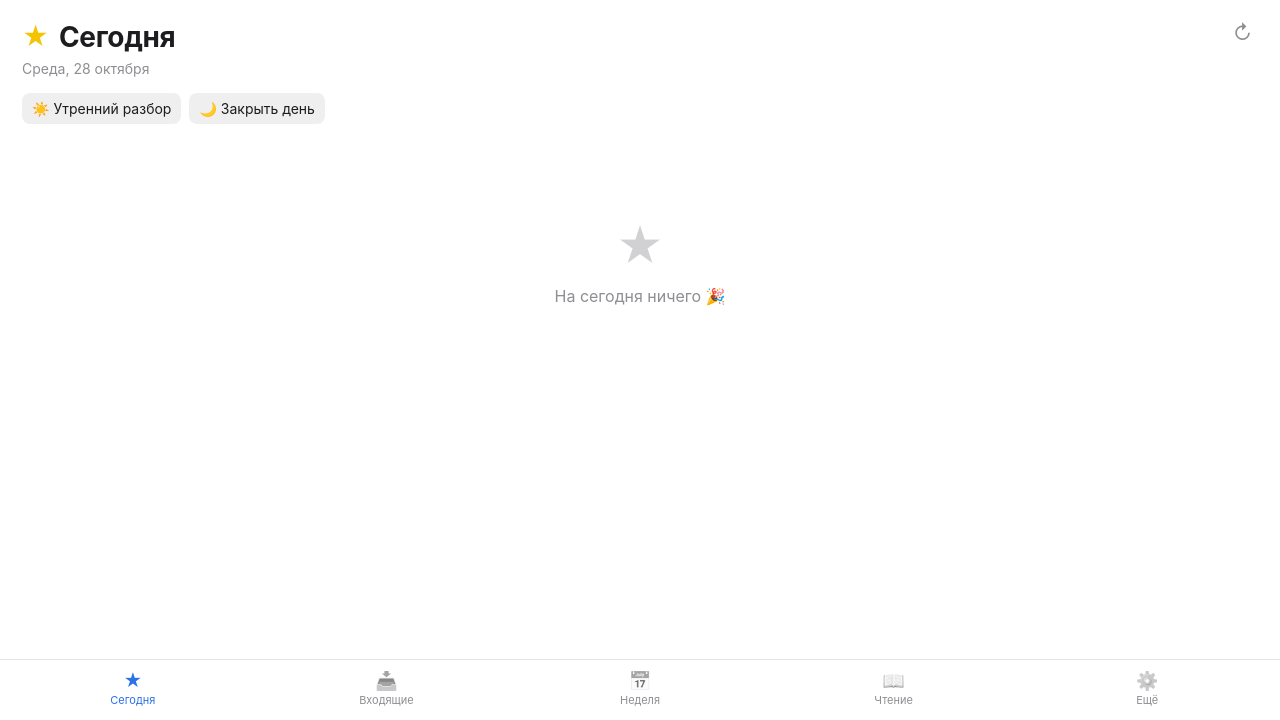
Ещё: статистика и настройки › проектов в мини-аппе нет
Click the tab "⚙️ Ещё" at (1147, 689), box left=1020, top=666, right=1274, bottom=712
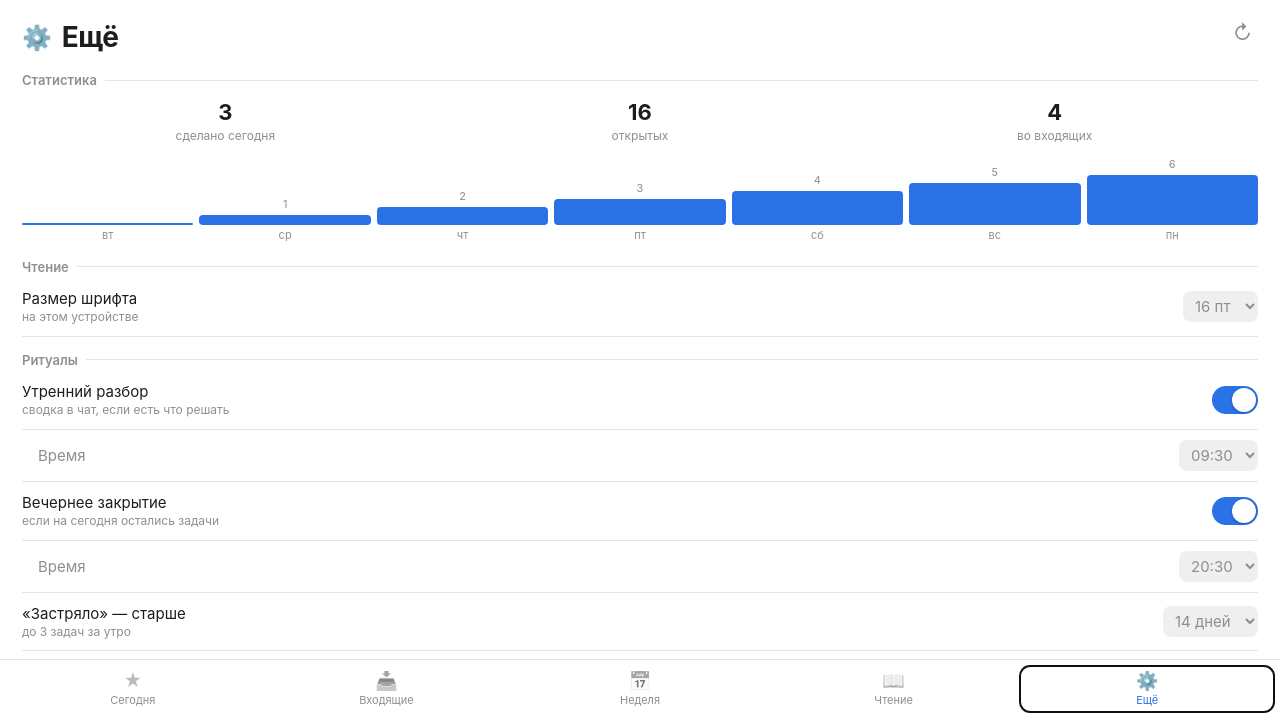
Now the text "сделано сегодня" is shown, box left=176, top=128, right=275, bottom=143
